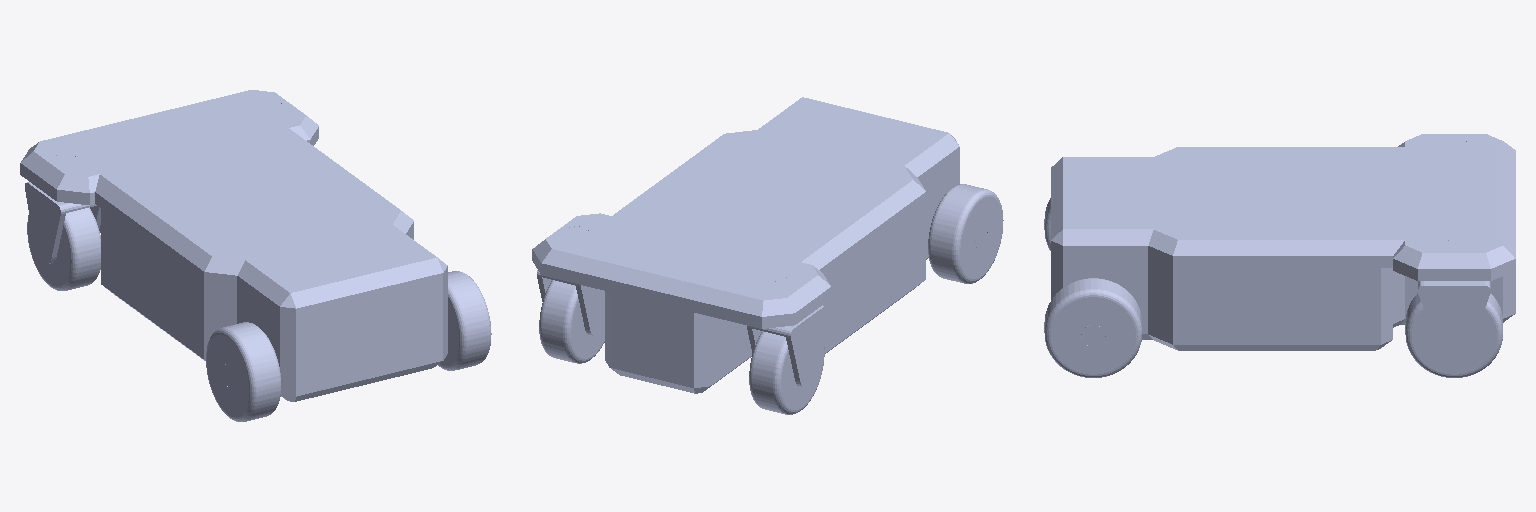
robot.urdf — car_assembly_ver2:
<?xml version="1.0" encoding="utf-8"?>
<!-- This URDF was automatically created by SolidWorks to URDF Exporter! Originally created by [author] ([email redacted]) 
     Commit Version: 1.6.0-1-g15f4949  Build Version: 1.6.7594.29634
     For more information, please see http://wiki.ros.org/sw_urdf_exporter
     rpy="1.5707963267949 0 -1.35802429133606"
     rpy="1.5707963267949 0 2.87679166055482" /> -->
<robot
  name="car_assembly_ver2">
  <link
    name="dummy_link">
  </link>
  <joint
    name="dummy_joint"
    type="fixed">
    <parent
      link="dummy_link" />
    <child
      link="base_link" />
    <axis
      xyz="0 0 0" />
  </joint>
  
  <link
    name="base_link">
    <inertial>
      <origin
        xyz="-3.4784846535937E-17 -0.0161077706536968 0.131961243103893"
        rpy="0 0 0" />
      <mass
        value="103.988130611323" />
      <inertia
        ixx="7.43759100474043"
        ixy="9.3987716068491E-16"
        ixz="2.68408467226263E-17"
        iyy="2.44395295522664"
        iyz="-0.15035724813958"
        izz="8.75188656091418" />
    </inertial>
    <visual>
      <origin
        xyz="0 0 0"
        rpy="0 0 0" />
      <geometry>
        <mesh
          filename="package://car_description/meshes/base_link.STL" />
      </geometry>
      <material
        name="">
        <color
          rgba="0.792156862745098 0.819607843137255 0.933333333333333 1" />
      </material>
    </visual>
    <collision>
      <origin
        xyz="0 0 0"
        rpy="0 0 0" />
      <geometry>
        <mesh
          filename="package://car_description/meshes/base_link.STL" />
      </geometry>
    </collision>
  </link>
  <link
    name="FrontRight_Link">
    <inertial>
      <origin
        xyz="5.55111512312578E-17 0.111439645125416 5.55111512312578E-17"
        rpy="0 0 0" />
      <mass
        value="0.935654513020705" />
      <inertia
        ixx="0.00434880924170957"
        ixy="-4.18753536521103E-19"
        ixz="-8.67361737988404E-19"
        iyy="0.00211355589259111"
        iyz="-9.77325430971779E-19"
        izz="0.00410261849355986" />
    </inertial>
    <visual>
      <origin
        xyz="0 0 0"
        rpy="0 0 0" />
      <geometry>
        <mesh
          filename="package://car_description/meshes/FrontRight_Link.STL" />
      </geometry>
      <material
        name="">
        <color
          rgba="0.792156862745098 0.819607843137255 0.933333333333333 1" />
      </material>
    </visual>
    <collision>
      <origin
        xyz="0 0 0"
        rpy="0 0 0" />
      <geometry>
        <mesh
          filename="package://car_description/meshes/FrontRight_Link.STL" />
      </geometry>
    </collision>
  </link>
  <joint
    name="FrontRight_Joint"
    type="revolute">
    <origin
      xyz="0.254 0.3556 0.0254"
      
      rpy="1.5707963267949 0 1.57" />
    <parent
      link="base_link" />
    <child
      link="FrontRight_Link" />
    <axis
      xyz="0 1 0" />
    <limit effort="3000" velocity="3000.0" lower="-0.5" upper="0.5" />
  </joint>
  
  <transmission name="FrontRight_T">
   <type>transmission_interface/SimpleTransmission</type>
   <joint name="FrontRight_Joint">
     <hardwareInterface>hardware_interface/EffortJointInterface</hardwareInterface>
   </joint>
   <actuator name="FrontRight_Motor">
     <mechanicalReduction>50</mechanicalReduction>
     <hardwareInterface>hardware_interface/EffortJointInterface</hardwareInterface>
   </actuator>
  </transmission>
  
  <link
    name="FrontRightWheel_Link">
    <inertial>
      <origin
        xyz="0 0 0"
        rpy="0 0 0" />
      <mass
        value="2.27370840064708" />
      <inertia
        ixx="0.00720966812251228"
        ixy="0"
        ixz="3.03576608295941E-18"
        iyy="0.00720966812251228"
        iyz="-1.19262238973405E-18"
        izz="0.0122845286882287" />
    </inertial>
    <visual>
      <origin
        xyz="0 0 0"
        rpy="0 0 0" />
      <geometry>
        <mesh
          filename="package://car_description/meshes/FrontRightWheel_Link.STL" />
      </geometry>
      <material
        name="">
        <color
          rgba="0.792156862745098 0.819607843137255 0.933333333333333 1" />
      </material>
    </visual>
    <collision>
      <origin
        xyz="0 0 0"
        rpy="0 0 0" />
      <geometry>
        <mesh
          filename="package://car_description/meshes/FrontRightWheel_Link.STL" />
      </geometry>
    </collision>
  </link>
  <joint
    name="FrontRightWheel_Joint"
    type="continuous">
    <origin
      xyz="0 0.0380999999999999 0"
      rpy="0 0 0.834972574707296" />
    <parent
      link="FrontRight_Link" />
    <child
      link="FrontRightWheel_Link" />
    <axis
      xyz="0 0 1" />
  </joint>
  <transmission name="FrontRightWheel_T">
   <type>transmission_interface/SimpleTransmission</type>
   <joint name="FrontRightWheel_Joint">
     <hardwareInterface>hardware_interface/VelocityJointInterface</hardwareInterface>
   </joint>
   <actuator name="FrontRightWheel_Motor">
     <mechanicalReduction>50</mechanicalReduction>
     <hardwareInterface>hardware_interface/VelocityJointInterface</hardwareInterface>
   </actuator>
  </transmission>
  
  <link
    name="FrontLeft_Link">
    <inertial>
      <origin
        xyz="0 0.111439645125416 -5.55111512312578E-17"
        rpy="0 0 0" />
      <mass
        value="0.935654513020705" />
      <inertia
        ixx="0.00434880924170957"
        ixy="4.78350817793257E-19"
        ixz="-1.0842021724855E-19"
        iyy="0.00211355589259111"
        iyz="-1.09576393120389E-18"
        izz="0.00410261849355986" />
    </inertial>
    <visual>
      <origin
        xyz="0 0 0"
        rpy="0 0 0" />
      <geometry>
        <mesh
          filename="package://car_description/meshes/FrontLeft_Link.STL" />
      </geometry>
      <material
        name="">
        <color
          rgba="0.792156862745098 0.819607843137255 0.933333333333333 1" />
      </material>
    </visual>
    <collision>
      <origin
        xyz="0 0 0"
        rpy="0 0 0" />
      <geometry>
        <mesh
          filename="package://car_description/meshes/FrontLeft_Link.STL" />
      </geometry>
    </collision>
  </link>
  <joint
    name="FrontLeft_Joint"
    type="revolute">
    <origin
      xyz="-0.254 0.3556 0.0253999999999997"
      
      rpy="1.5707963267949 0 1.57" />
    <parent
      link="base_link" />
    <child
      link="FrontLeft_Link" />
    <axis
      xyz="0 1 0" />
    <limit effort="3000" velocity="3000.0" lower="-0.5" upper="0.5" />
  </joint>
  <transmission name="FrontLeft_T">
   <type>transmission_interface/SimpleTransmission</type>
   <joint name="FrontLeft_Joint">
     <hardwareInterface>hardware_interface/EffortJointInterface</hardwareInterface>
   </joint>
   <actuator name="FrontLeft_Motor">
     <mechanicalReduction>50</mechanicalReduction>
     <hardwareInterface>hardware_interface/EffortJointInterface</hardwareInterface>
   </actuator>
  </transmission>
  
  <link
    name="FrontLeftWheel_Link">
    <inertial>
      <origin
        xyz="-6.93889390390723E-18 5.55111512312578E-17 1.11022302462516E-16"
        rpy="0 0 0" />
      <mass
        value="2.27370840064708" />
      <inertia
        ixx="0.00720966812251228"
        ixy="-5.35324822664718E-19"
        ixz="-5.14996031930615E-18"
        iyy="0.00720966812251228"
        iyz="7.26415455565288E-18"
        izz="0.0122845286882287" />
    </inertial>
    <visual>
      <origin
        xyz="0 0 0"
        rpy="0 0 0" />
      <geometry>
        <mesh
          filename="package://car_description/meshes/FrontLeftWheel_Link.STL" />
      </geometry>
      <material
        name="">
        <color
          rgba="0.792156862745098 0.819607843137255 0.933333333333333 1" />
      </material>
    </visual>
    <collision>
      <origin
        xyz="0 0 0"
        rpy="0 0 0" />
      <geometry>
        <mesh
          filename="package://car_description/meshes/FrontLeftWheel_Link.STL" />
      </geometry>
    </collision>
  </link>
  <joint
    name="FrontLeftWheel_Joint"
    type="continuous">
    <origin
      xyz="0 0.0381000000000001 0"
      rpy="0 0 -1.35659055615486" />
    <parent
      link="FrontLeft_Link" />
    <child
      link="FrontLeftWheel_Link" />
    <axis
      xyz="0 0 1" />
  </joint>
  <transmission name="FrontLeftWheel_T">
   <type>transmission_interface/SimpleTransmission</type>
   <joint name="FrontLeftWheel_Joint">
     <hardwareInterface>hardware_interface/VelocityJointInterface</hardwareInterface>
   </joint>
   <actuator name="FrontLeftWheel_Motor">
     <mechanicalReduction>50</mechanicalReduction>
     <hardwareInterface>hardware_interface/VelocityJointInterface</hardwareInterface>
   </actuator>
  </transmission>
  
  <link
    name="BackRight_Link">
    <inertial>
      <origin
        xyz="-0.00266512733744148 -0.00963831397471698 0.167020899710353"
        rpy="0 0 0" />
      <mass
        value="3.45778243780211" />
      <inertia
        ixx="0.0410766642467973"
        ixy="2.16840434497101E-19"
        ixz="-1.34767591433348E-18"
        iyy="0.0410766642467973"
        iyz="-1.82287355197184E-18"
        izz="0.0126664872911342" />
    </inertial>
    <visual>
      <origin
        xyz="0 0 0"
        rpy="0 0 0" />
      <geometry>
        <mesh
          filename="package://car_description/meshes/BackRight_Link.STL" />
      </geometry>
      <material
        name="">
        <color
          rgba="0.792156862745098 0.819607843137255 0.933333333333333 1" />
      </material>
    </visual>
    <collision>
      <origin
        xyz="0 0 0"
        rpy="0 0 0" />
      <geometry>
        <mesh
          filename="package://car_description/meshes/BackRight_Link.STL" />
      </geometry>
    </collision>
  </link>
  <joint
    name="BackRight_Joint"
    type="continuous">
    <origin
      xyz="0 -0.403461365696226 0.0656715754061382"
      rpy="-1.5707963267949 -1.51992481797961 -1.5707963267949" />
    <parent
      link="base_link" />
    <child
      link="BackRight_Link" />
    <axis
      xyz="0 0 1" />
  </joint>
  <transmission name="BackRight_T">
   <type>transmission_interface/SimpleTransmission</type>
   <joint name="BackRight_Joint">
     <hardwareInterface>hardware_interface/VelocityJointInterface</hardwareInterface>
   </joint>
   <actuator name="BackRight_Motor">
     <mechanicalReduction>50</mechanicalReduction>
     <hardwareInterface>hardware_interface/VelocityJointInterface</hardwareInterface>
   </actuator>
  </transmission>
  
  <link
    name="BackLeft_Link">
    <inertial>
      <origin
        xyz="-0.0010775522056843 -0.00994177455206191 -0.16702089971035"
        rpy="0 0 0" />
      <mass
        value="3.45778243780211" />
      <inertia
        ixx="0.0410766642467973"
        ixy="-8.67361737988404E-19"
        ixz="-1.05915707578193E-18"
        iyy="0.0410766642467973"
        iyz="-1.69173975333796E-18"
        izz="0.0126664872911342" />
    </inertial>
    <visual>
      <origin
        xyz="0 0 0"
        rpy="0 0 0" />
      <geometry>
        <mesh
          filename="package://car_description/meshes/BackLeft_Link.STL" />
      </geometry>
      <material
        name="">
        <color
          rgba="0.792156862745098 0.819607843137255 0.933333333333333 1" />
      </material>
    </visual>
    <collision>
      <origin
        xyz="0 0 0"
        rpy="0 0 0" />
      <geometry>
        <mesh
          filename="package://car_description/meshes/BackLeft_Link.STL" />
      </geometry>
    </collision>
  </link>
  <joint
    name="BackLeft_Joint"
    type="continuous">
    <origin
      xyz="0 -0.403687063238247 0.0629915043016358"
      rpy="-1.5707963267949 -1.411959972577 -1.5707963267949" />
    <parent
      link="base_link" />
    <child
      link="BackLeft_Link" />
    <axis
      xyz="0 0 1" />
  </joint>
  <transmission name="BackLeft_T">
   <type>transmission_interface/SimpleTransmission</type>
   <joint name="BackLeft_Joint">
     <hardwareInterface>hardware_interface/VelocityJointInterface</hardwareInterface>
   </joint>
   <actuator name="BackLeft_Motor">
     <mechanicalReduction>50</mechanicalReduction>
     <hardwareInterface>hardware_interface/VelocityJointInterface</hardwareInterface>
   </actuator>
  </transmission>
</robot>

--- What the picture shows (computed from the rendered views, not written in the file) ---
The picture shows the robot from 3 angles, left to right: view 1: azimuth 30°, elevation 25°; view 2: azimuth 150°, elevation 25°; view 3: azimuth 270°, elevation 25°; orthographic projection.
Robot: car_assembly_ver2 — 8 links, 7 joints (2 revolute, 4 continuous, 1 fixed); root link dummy_link; default pose: every joint at zero.
Visible links, largest first — view 1: base_link, BackLeft_Link, BackRight_Link, FrontLeftWheel_Link, FrontLeft_Link; view 2: base_link, BackLeft_Link, FrontLeftWheel_Link, FrontRightWheel_Link, FrontLeft_Link, FrontRight_Link; view 3: base_link, BackRight_Link, FrontRight_Link, FrontRightWheel_Link.
Boxes of the visible links, x1=… form: base_link: x1=20, y1=90, x2=447, y2=401; BackLeft_Link: x1=206, y1=322, x2=280, y2=421; BackRight_Link: x1=222, y1=271, x2=491, y2=387; FrontLeftWheel_Link: x1=27, y1=207, x2=100, y2=290; FrontLeft_Link: x1=25, y1=154, x2=100, y2=263; base_link: x1=532, y1=97, x2=959, y2=393; BackLeft_Link: x1=928, y1=184, x2=1003, y2=283; FrontLeftWheel_Link: x1=749, y1=331, x2=824, y2=414; FrontRightWheel_Link: x1=539, y1=280, x2=604, y2=363; FrontLeft_Link: x1=747, y1=278, x2=826, y2=387; FrontRight_Link: x1=537, y1=226, x2=604, y2=336; base_link: x1=1051, y1=134, x2=1515, y2=350; BackRight_Link: x1=1044, y1=278, x2=1141, y2=377; FrontRight_Link: x1=1418, y1=240, x2=1490, y2=355; FrontRightWheel_Link: x1=1405, y1=293, x2=1502, y2=377.
Bounding box of the posed robot: 0.635 × 0.9779 × 0.2921 m (x, y, z).
Meshes: 7 distinct files referenced, 7 mesh visuals loaded (7 binary STL).